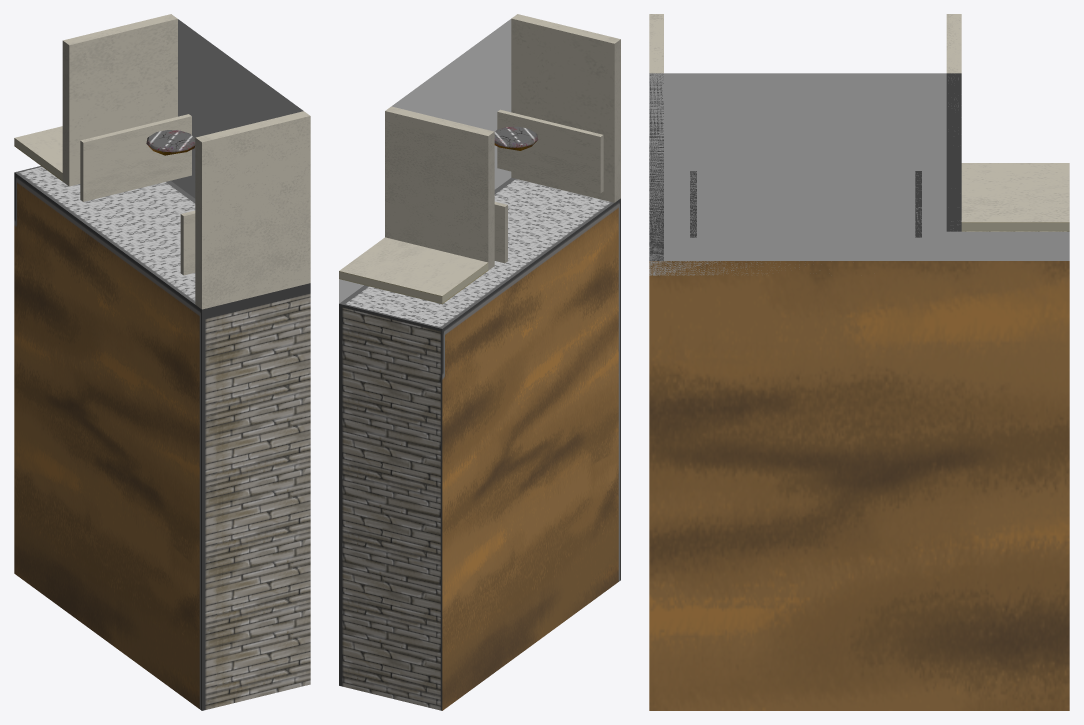
The model's file is Boss_Map.fbx.
3 renders of one model, left to right at view 1: azimuth 30°, elevation 25°; view 2: azimuth 150°, elevation 25°; view 3: azimuth 270°, elevation 25°, orthographic. The views are drawn at different scales.
Visible parts, largest first — view 1: Foor_C003, Floor_D005, Floor_D004, Boss_Background, Floor_D007, Interior005, Scaffolding040, Floor_D006; view 2: Foor_C003, Floor_D004, Floor_D005, Boss_Background, Interior005, Floor_D006, Scaffolding038, Floor_D007; view 3: Foor_C003, Boss_Background, Interior005, Floor_D004, Floor_D005.
Part boxes in pixels (x1,y1,x2,y2): Foor_C003: (14, 166, 310, 710); Floor_D005: (195, 111, 310, 309); Floor_D004: (62, 14, 177, 186); Boss_Background: (171, 19, 303, 198); Floor_D007: (80, 114, 191, 201); Interior005: (14, 126, 62, 181); Scaffolding040: (146, 130, 195, 155); Floor_D006: (180, 210, 195, 275); Foor_C003: (339, 177, 620, 710); Floor_D004: (385, 106, 494, 270); Floor_D005: (511, 14, 620, 202); Boss_Background: (339, 19, 511, 303); Interior005: (339, 237, 488, 304); Floor_D006: (497, 109, 603, 193); Scaffolding038: (494, 126, 538, 150); Floor_D007: (494, 201, 507, 263); Foor_C003: (649, 231, 1069, 710); Boss_Background: (649, 73, 1069, 275); Interior005: (961, 163, 1069, 231); Floor_D004: (946, 14, 961, 231); Floor_D005: (649, 14, 663, 260).
Size of the model in its own units: 1874 by 9382 by 5609.
